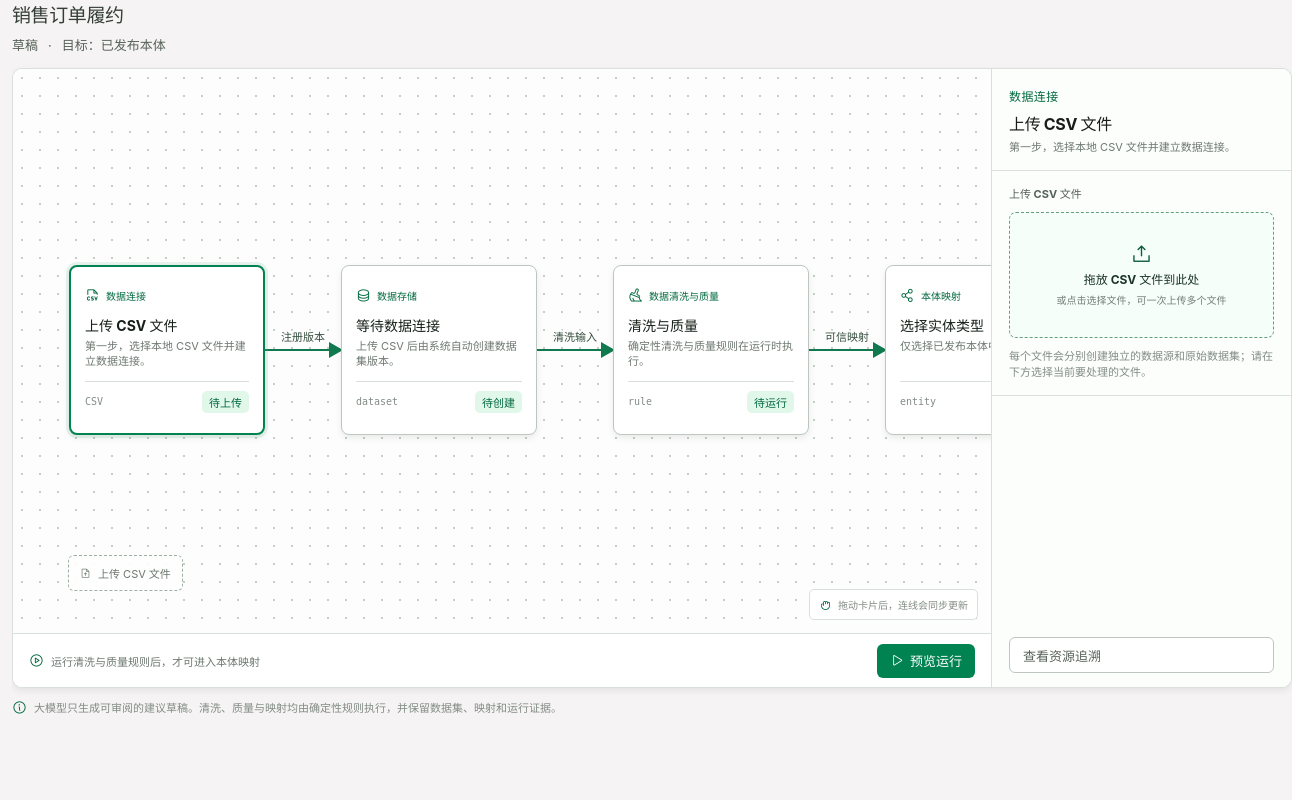
Test: shows an explicit human-review AI suggestion for the quality node
Click the button "数据清洗与质量 清洗与质量 确定性清洗与质量规则在运行时执行。 rule 待运行": (711, 350) 613,265 -> 809,435
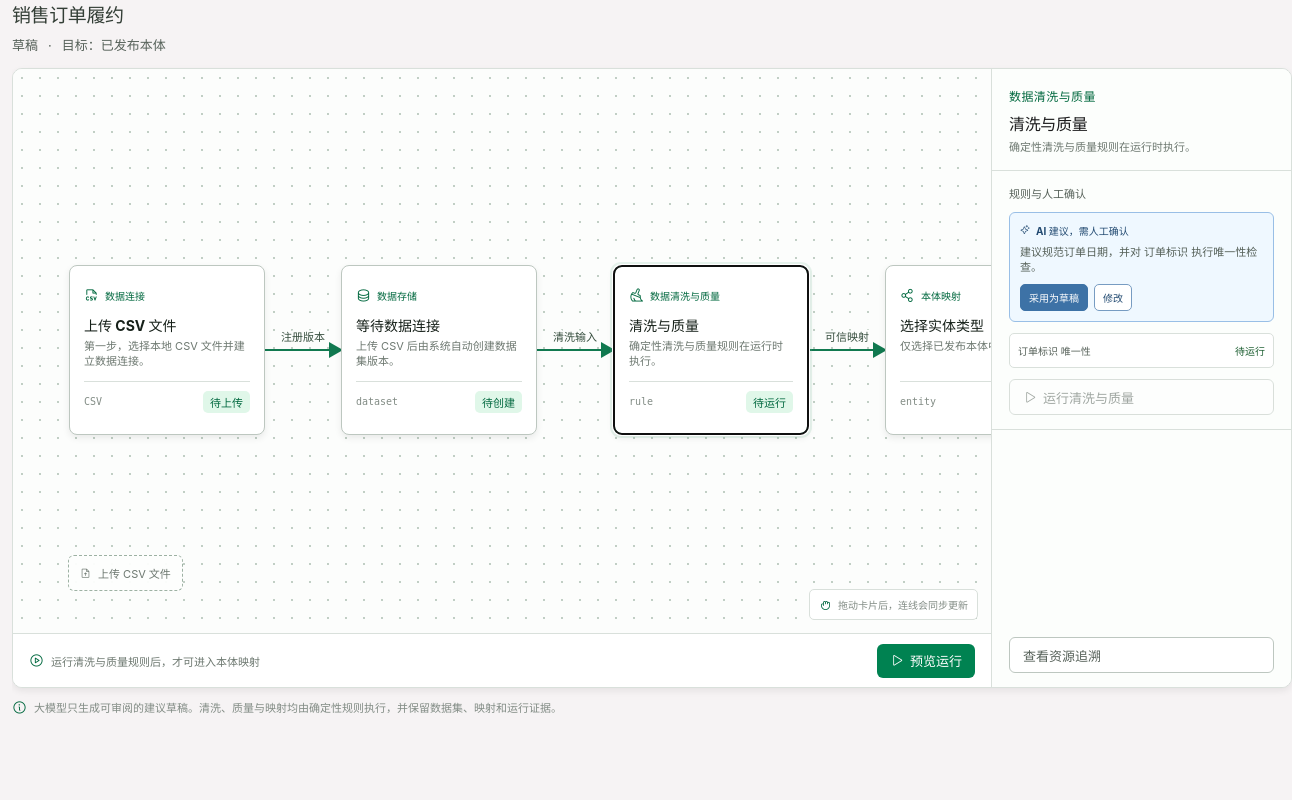
Expected: the text "AI 建议，需人工确认" is shown, 1036,222 -> 1129,238
Expected: the button "采用为草稿" is shown, 1020,284 -> 1088,311
